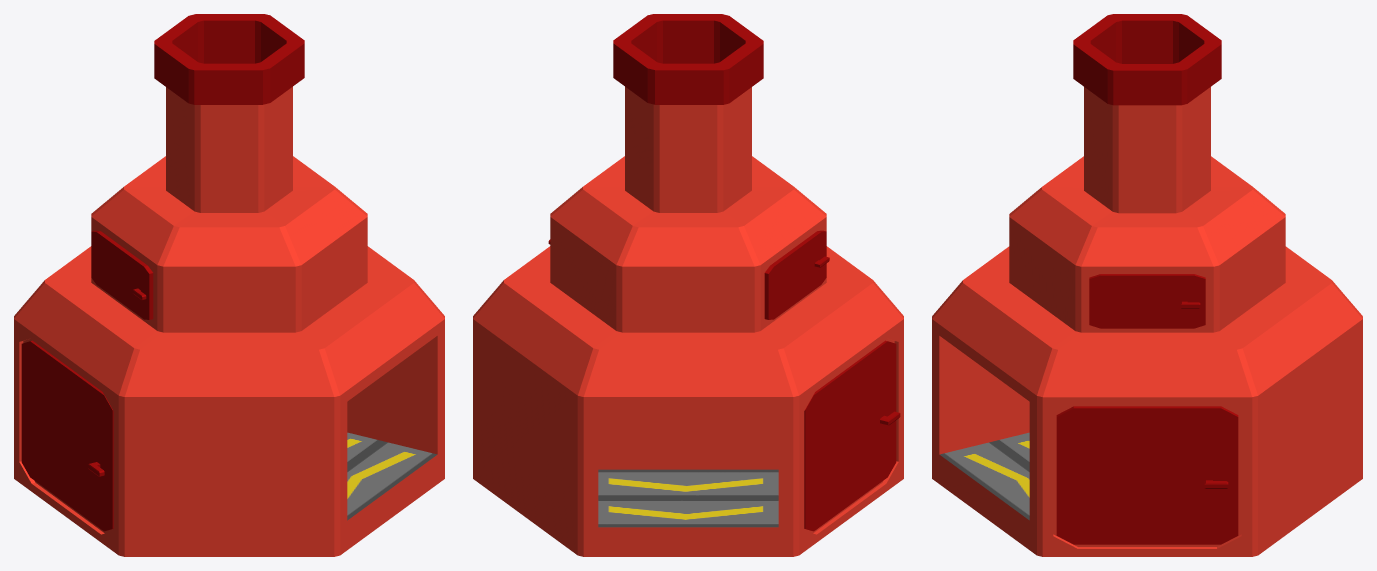
Rendered from furnaceV2.fbx.
3 views of the same model, side by side, from view 1: azimuth 30°, elevation 25°; view 2: azimuth 150°, elevation 25°; view 3: azimuth 270°, elevation 25° (orthographic).
Parts seen in each view (by area): view 1: Cylinder, Cube.000, Cube.003; view 2: Cylinder, Cube.000, Cube.003; view 3: Cylinder, Cube.001, Cube.002.
Boxes of the visible parts, x1,y1,x2,y2 form: Cylinder: (14,14,444,556); Cube.000: (21,340,113,531); Cube.003: (91,230,153,319); Cylinder: (473,14,903,556); Cube.000: (804,340,896,531); Cube.003: (764,230,826,319); Cylinder: (932,14,1362,556); Cube.001: (1056,406,1238,544); Cube.002: (1089,274,1205,328).
Size of the model in its own units: 185 by 225 by 202.
